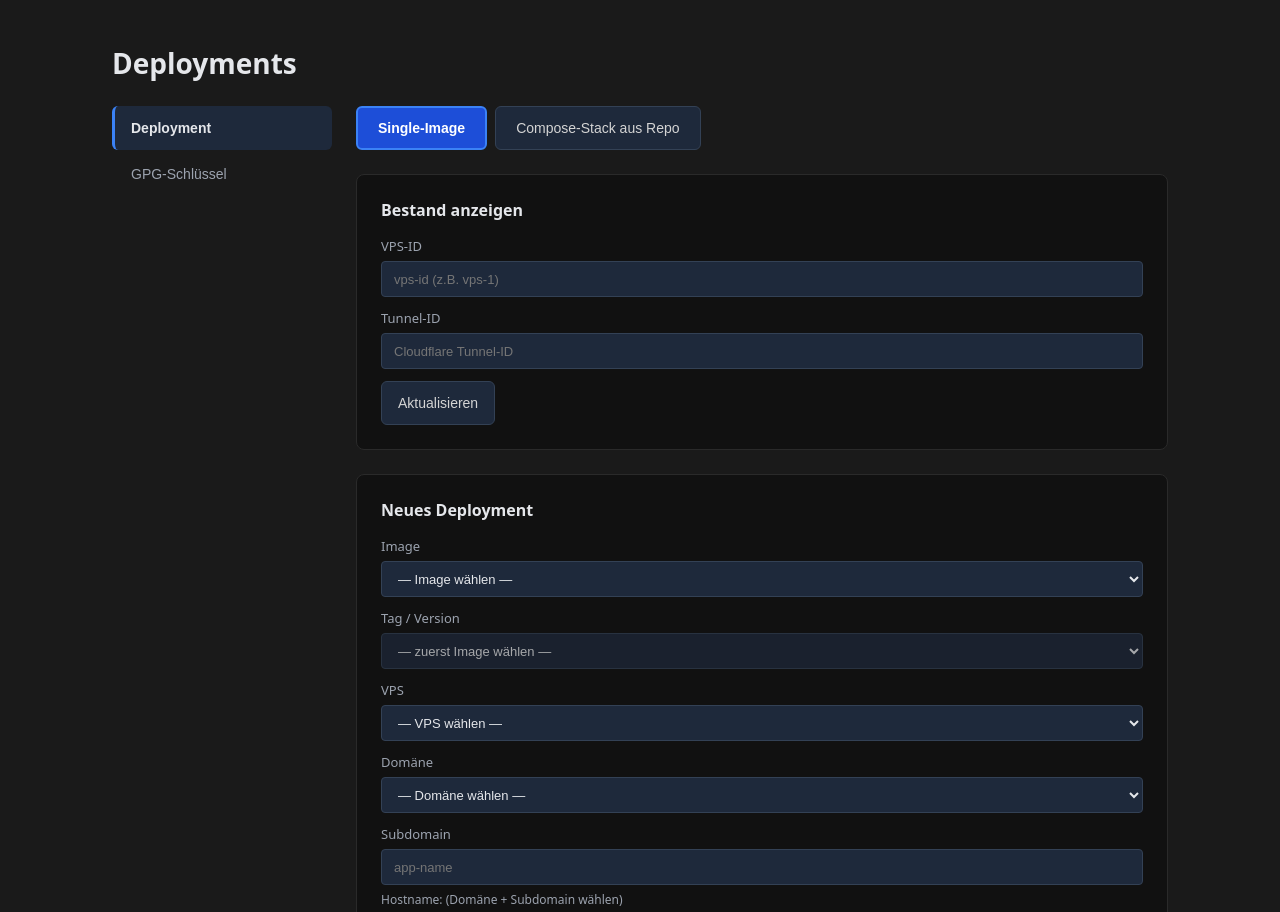
AC10 — Deploy-Button gesperrt bis VPS ready › Deploy-Button disabled for unreachable state
This screenshot has width=1280, height=912.
Select "brew-assistent" in the dropdown with id "deploy-image-select" at (762,579), box [381,561,1143,597]
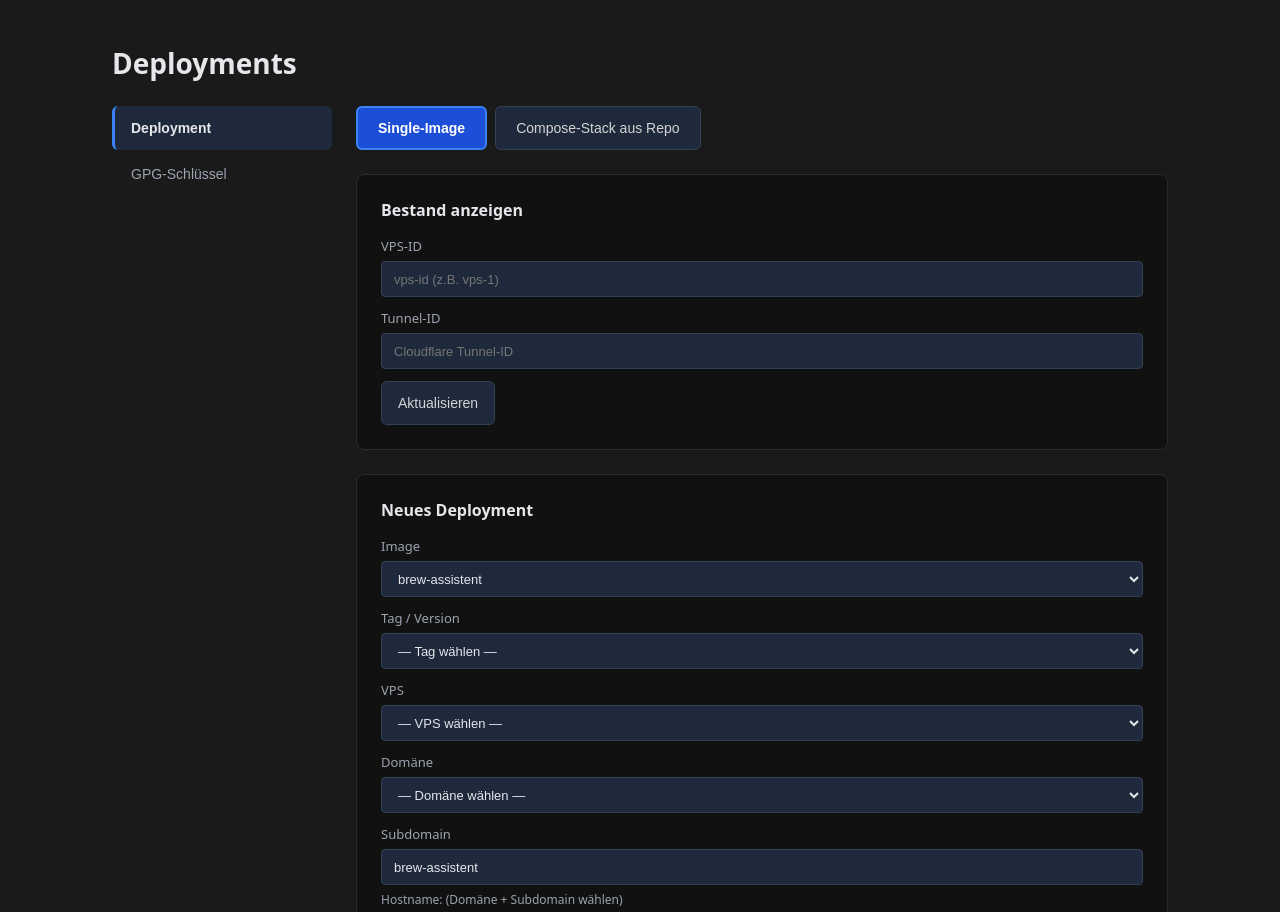
Select "v1.0.0" in the dropdown with id "deploy-tag-select" at (762,651), box [381,633,1143,669]
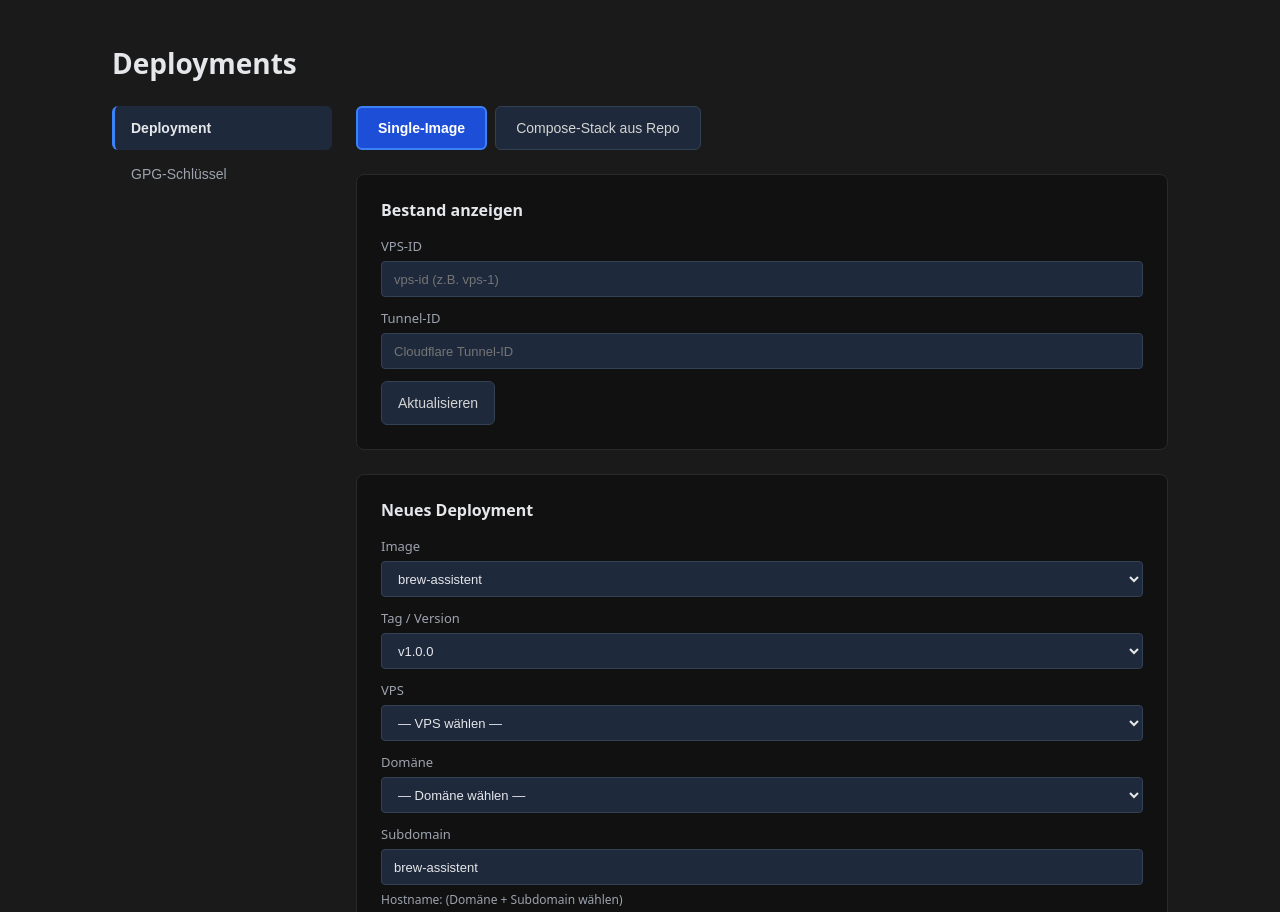
Select "vps-1" in the dropdown with id "deploy-vps-select" at (762,723), box [381,705,1143,741]
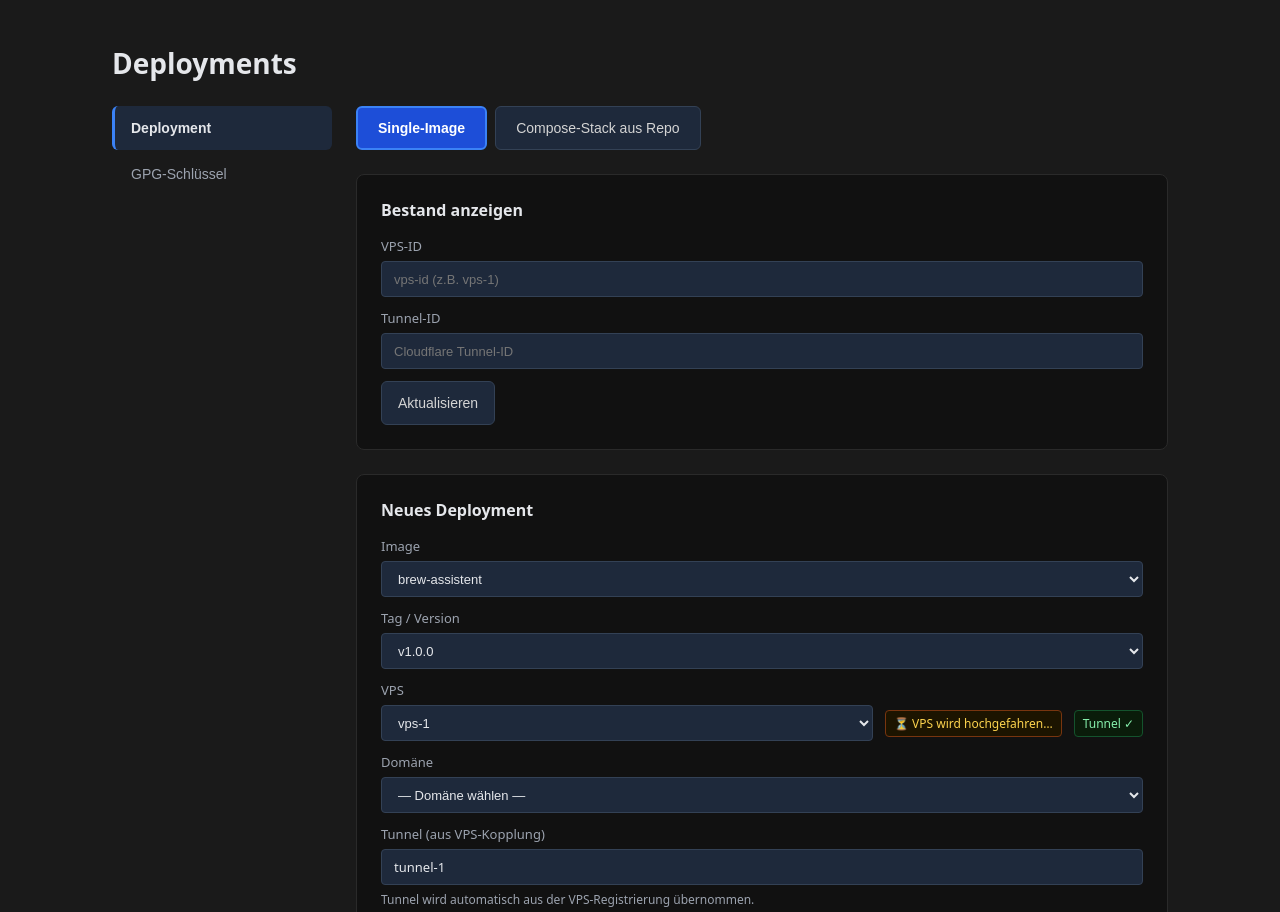
Select "alexstuder.cloud" in the dropdown with id "deploy-zone-select" at (762,795), box [381,777,1143,813]
Wait 200 ms
(page scrolled)
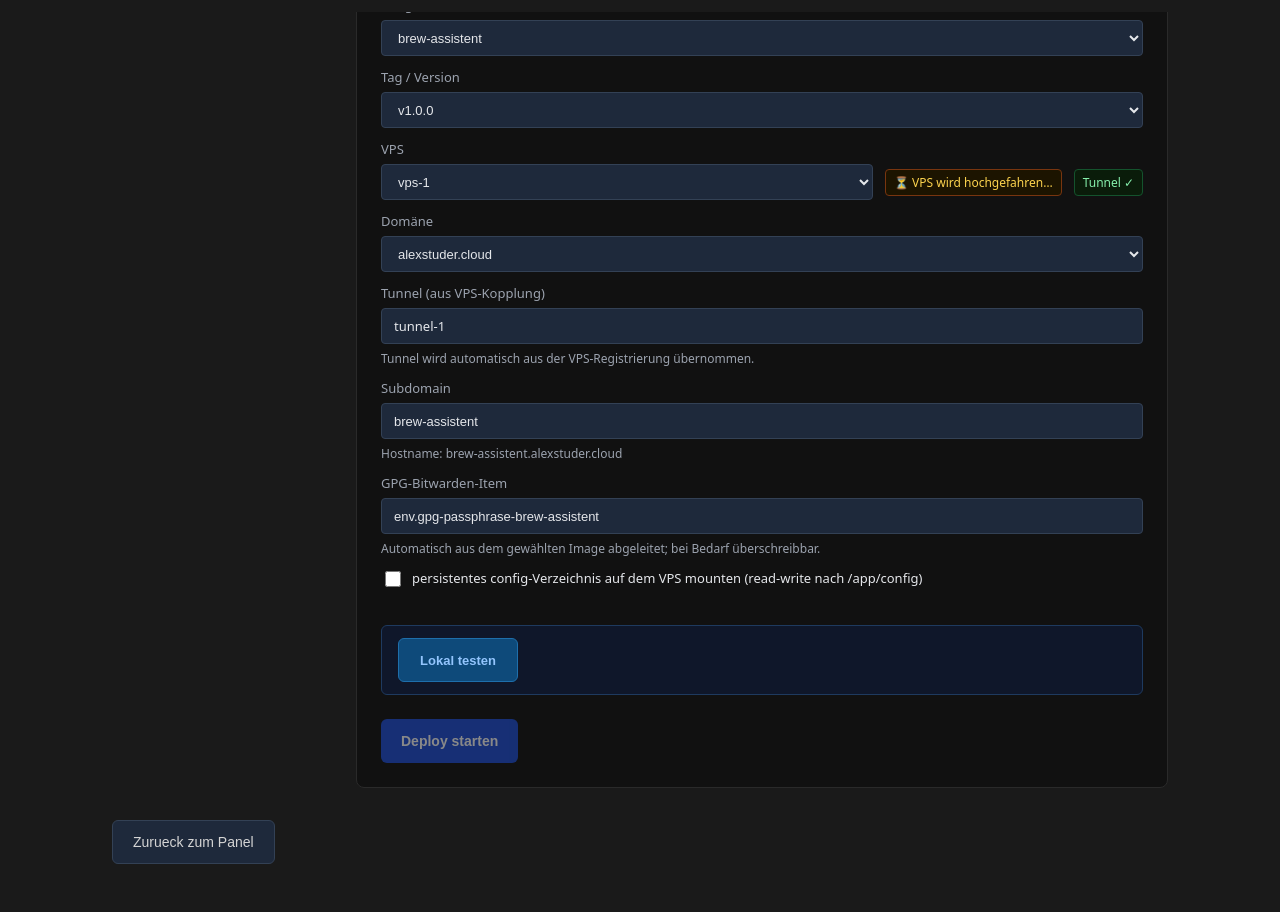
Now the message "Tunnel ✓" is shown, box [1074,168,1143,196]
Now the message "⏳ VPS wird hochgefahren…" is shown, box [885,168,1062,196]
Now the button "Deploy starten" is disabled, box [381,719,518,763]
